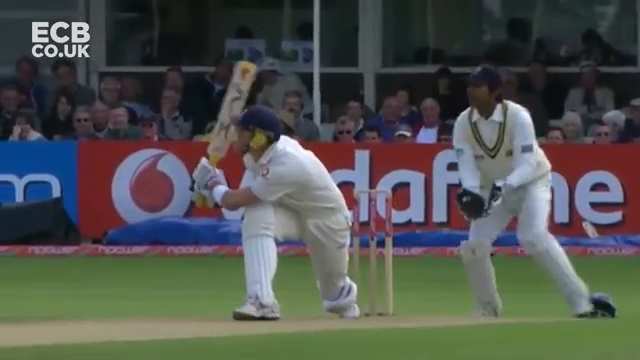Keeper: (453, 65, 618, 320)
batsman: (187, 103, 363, 321)
